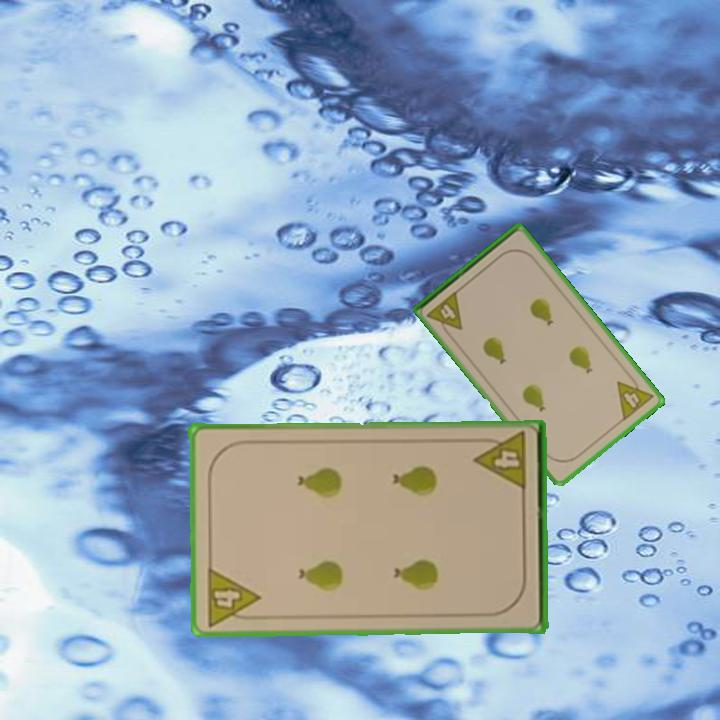4p: (202, 564, 263, 629), (472, 429, 529, 494), (613, 369, 656, 424), (423, 287, 466, 340)
